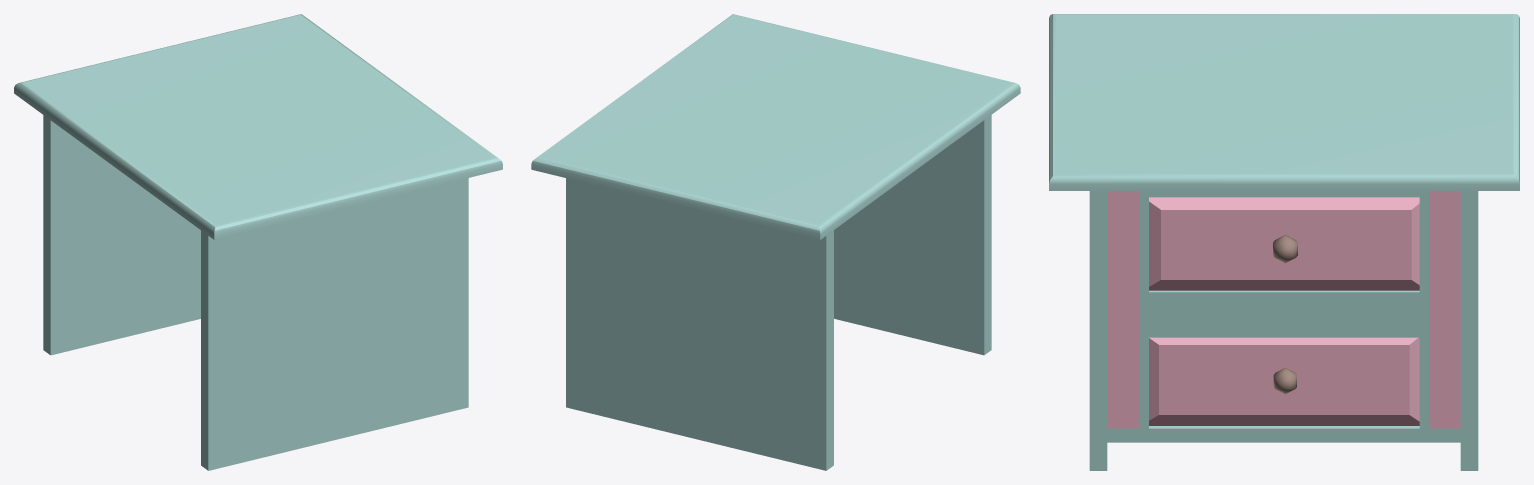
The model's file is Side_Table.fbx.
3 views of the same model, side by side, from view 1: azimuth 30°, elevation 25°; view 2: azimuth 150°, elevation 25°; view 3: azimuth 270°, elevation 25° (orthographic). The views are drawn at different scales.
Visible parts, largest first — view 1: Side_Table; view 2: Side_Table; view 3: Side_Table.
Boxes of the visible parts, x1,y1,x2,y2 form: Side_Table: (14,14,502,470); Side_Table: (531,14,1020,470); Side_Table: (1049,14,1519,470).
Bounding box in the file's own units: 111 × 94.48 × 133.
